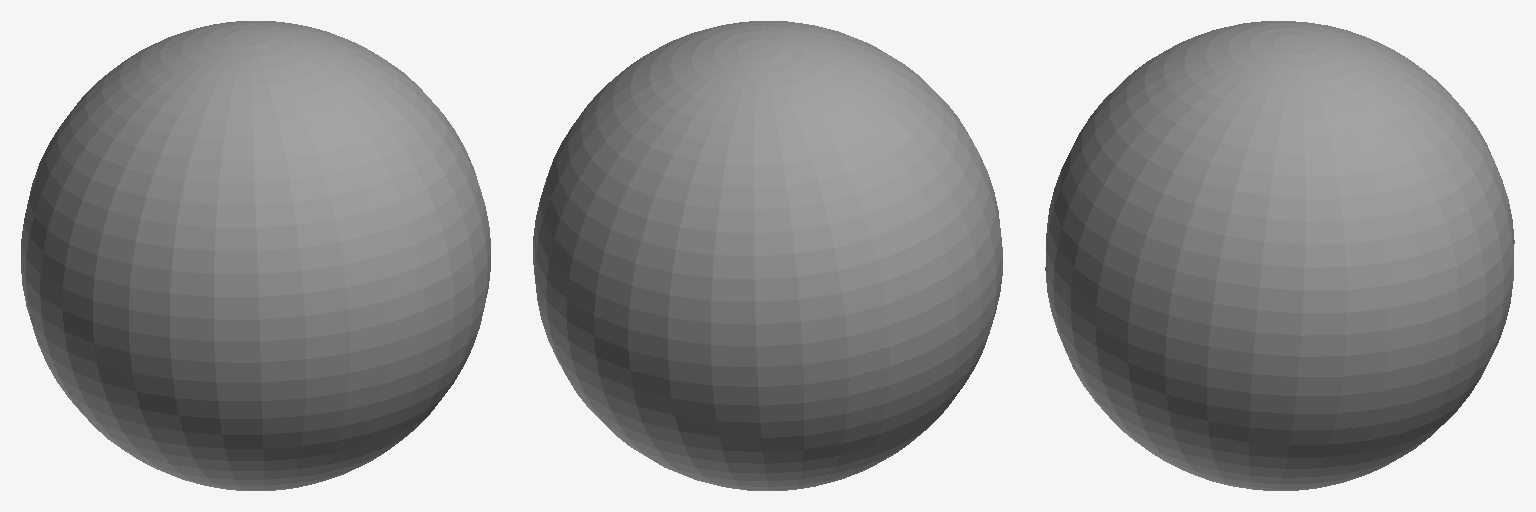
File: sphereB3D.obj
3 renders of one model, left to right at view 1: azimuth 30°, elevation 25°; view 2: azimuth 150°, elevation 25°; view 3: azimuth 270°, elevation 25°, orthographic.
Visible parts, largest first — view 1: Plane; view 2: Plane; view 3: Plane.
Boxes of the visible parts, x1=… form: Plane: x1=21, y1=21, x2=490, y2=490; Plane: x1=533, y1=21, x2=1002, y2=490; Plane: x1=1045, y1=21, x2=1514, y2=490.
Bounding box in the file's own units: 1.9 × 1.9 × 1.9.